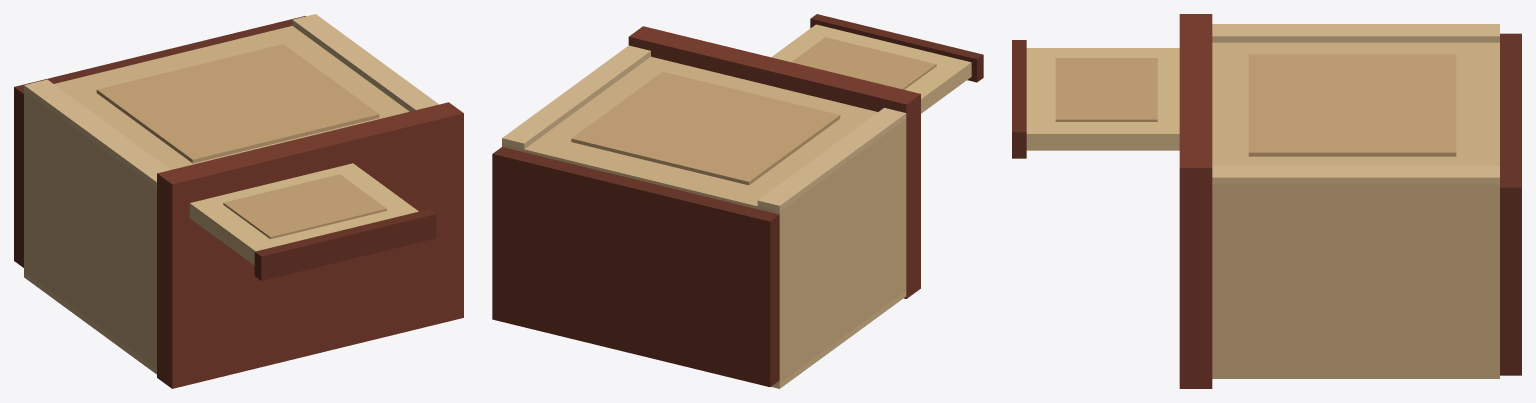
The model's file is section-2.obj.
3 views of the same model, side by side, from view 1: azimuth 30°, elevation 25°; view 2: azimuth 150°, elevation 25°; view 3: azimuth 270°, elevation 25° (orthographic). The views are drawn at different scales.
Size of the model in its own units: 1 by 0.67 by 1.4.
1 material, 1 textured.
